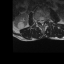CCS_normal: (41, 19, 43, 27)
LFS_severe_stenosis: (45, 18, 46, 23)
LLS_stenosis: (43, 19, 45, 24)
RFS_normal: (37, 19, 39, 24)
RLS_stenosis: (39, 19, 41, 25)
